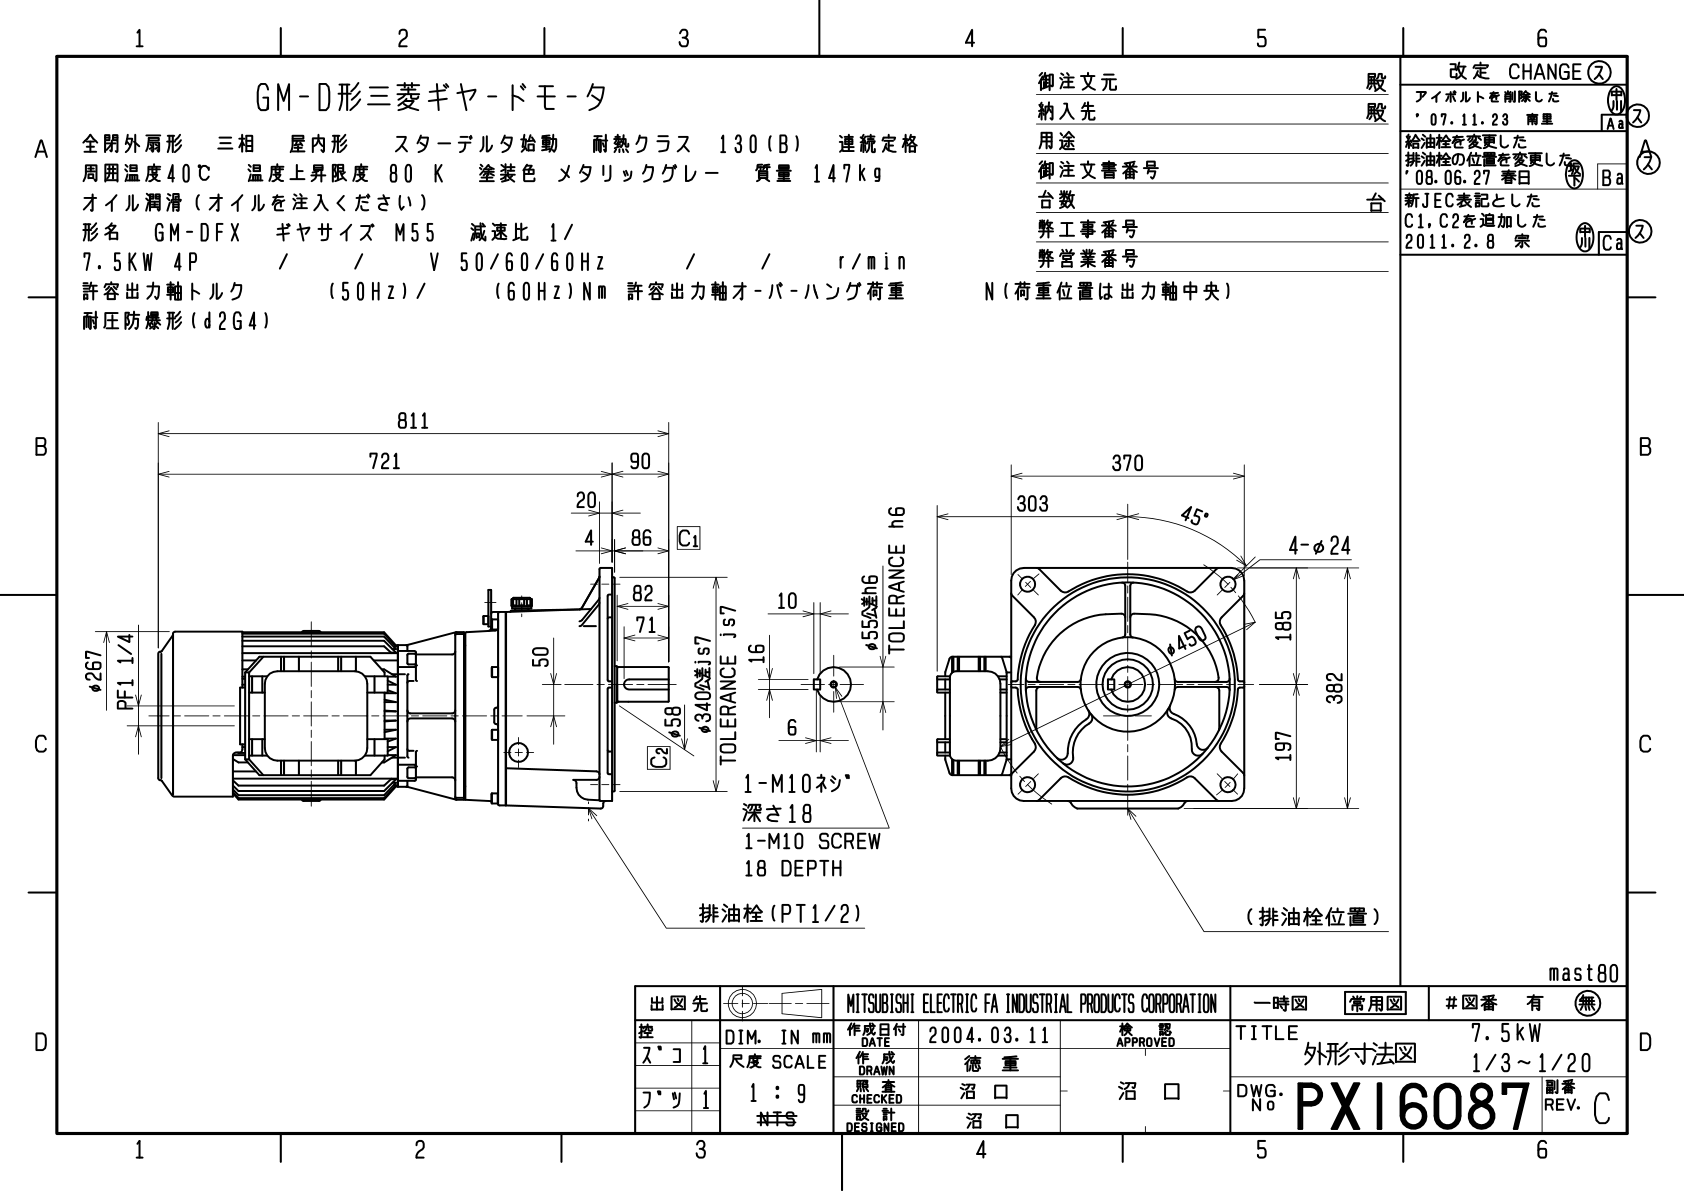GM_SP_屋内＿三相_フランジ: (63, 365, 1395, 982)
